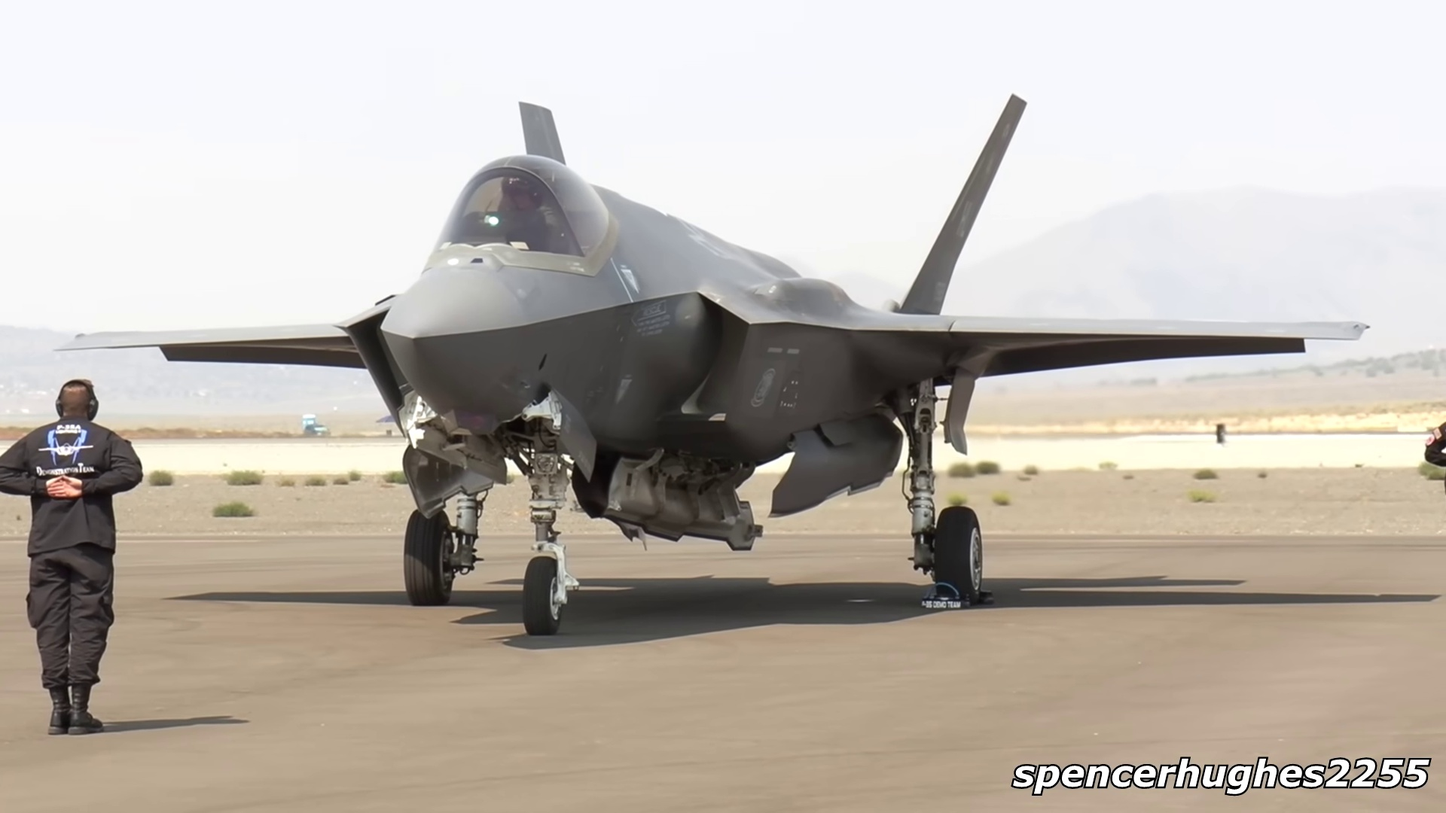F35: (52, 87, 1341, 625)
